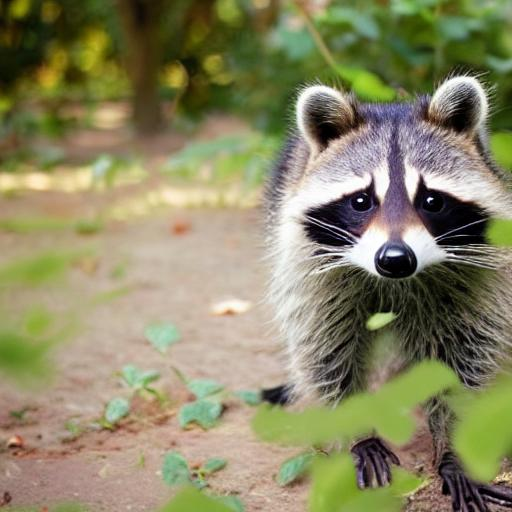raccoon: (242, 60, 512, 430)
